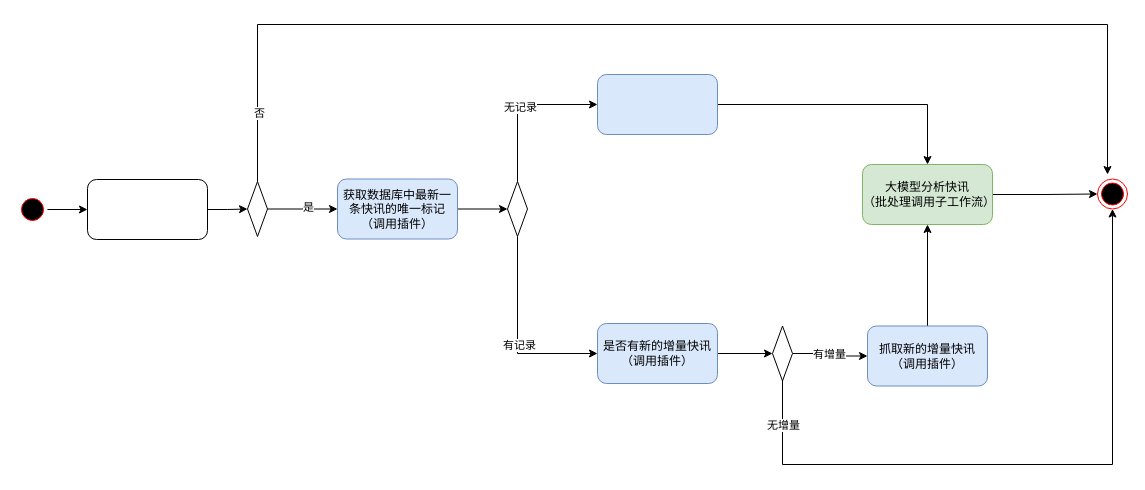
The diagram is 1145 pixels wide and 490 high, and some of its shapes have lost their labels. Here are the shapes that lost their labels. From the top down, the centre of each, then its label:
At pixel 657 104: "抓取固定条数 的快讯 （调用插件）".
At pixel 147 209: "检查上一次工作流 是否运行结束".
